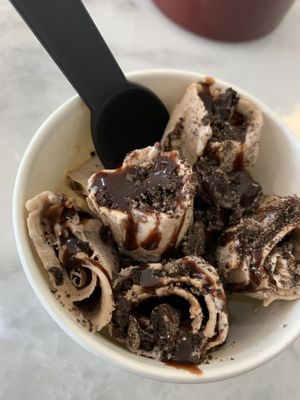pizza: (150, 0, 296, 43)
salad: (11, 0, 171, 169)
sandwich: (8, 0, 172, 170)
sushi: (10, 36, 300, 392)
